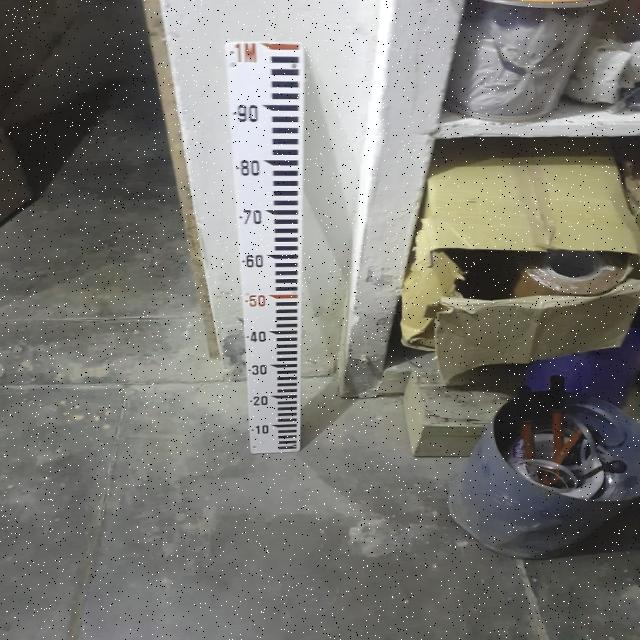10: (254, 424, 271, 435)
20: (252, 396, 269, 407)
30: (250, 364, 269, 376)
40: (249, 331, 267, 343)
50: (248, 294, 266, 307)
60: (245, 254, 265, 268)
70: (241, 209, 263, 226)
80: (240, 160, 262, 178)
90: (237, 105, 260, 122)
staff: (222, 41, 302, 454)
